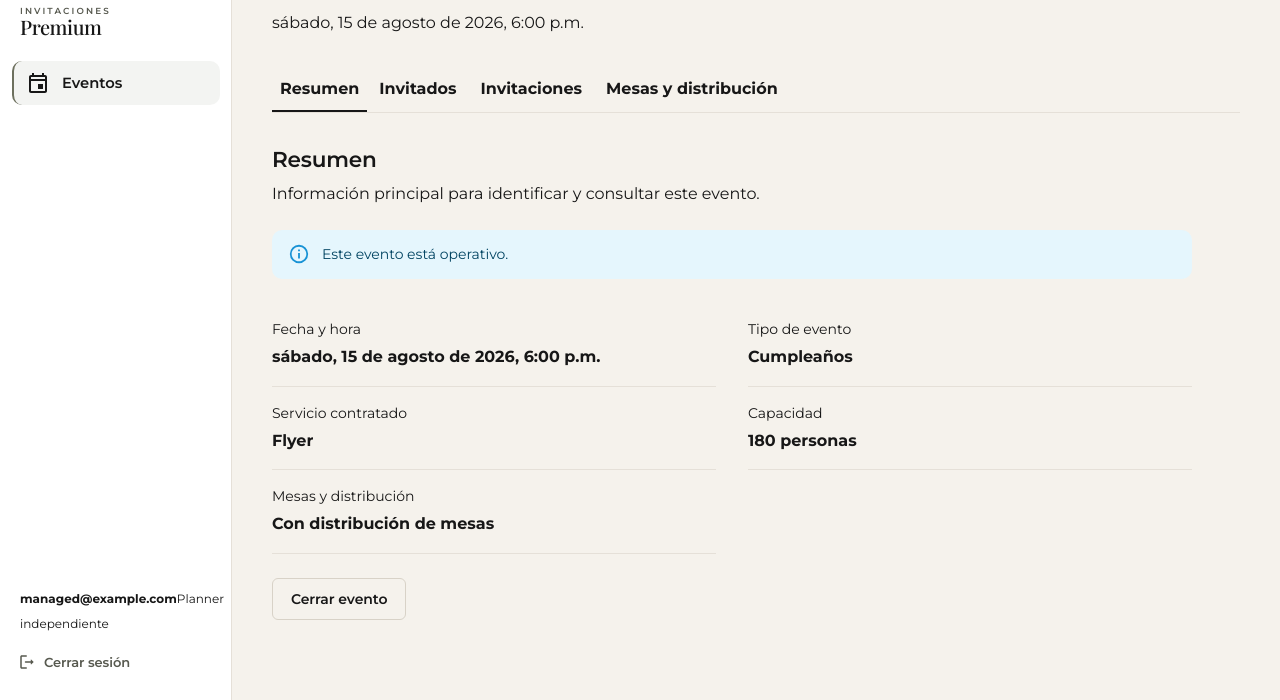
it: Active Event workspace routing › accepts CLOSED from reconciliation after an uncertain response without repeating close
This screenshot has width=1280, height=700.
(page scrolled)
Step 1. Click the button "Cerrar evento" → (339, 599), box [272,578,406,620]
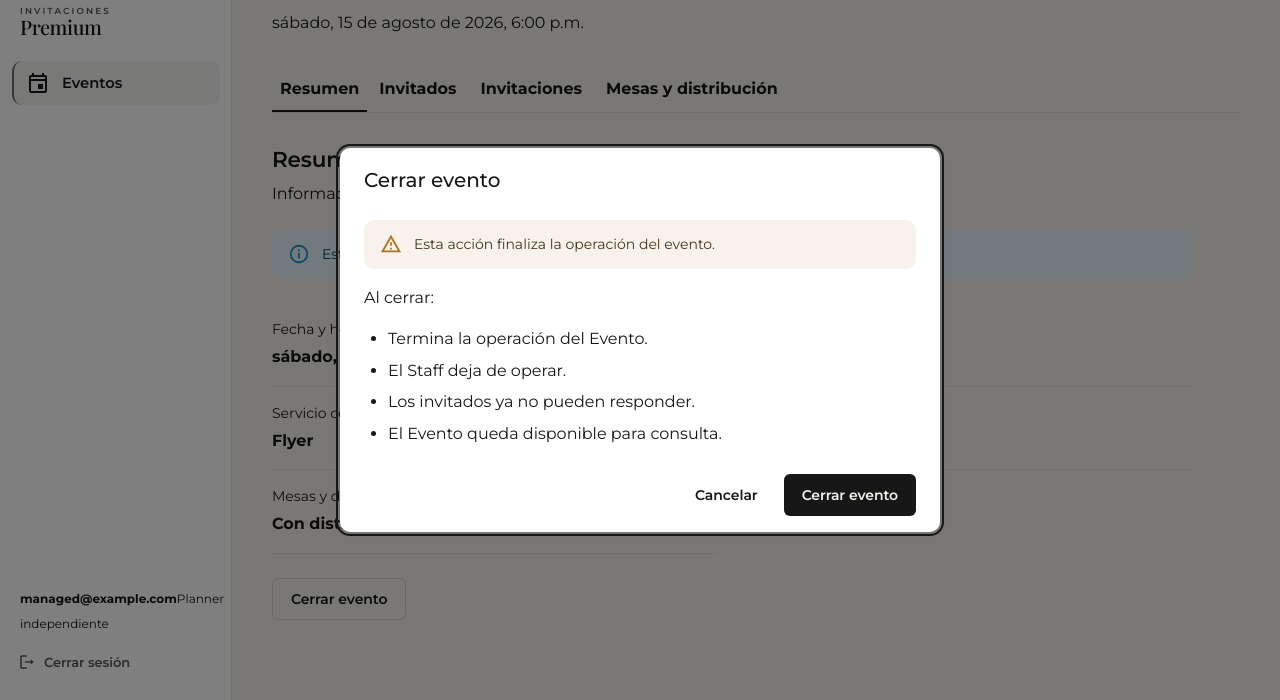
Step 2. Click the button "Cerrar evento" → (850, 496), box [784,474,916,516]
(page scrolled)
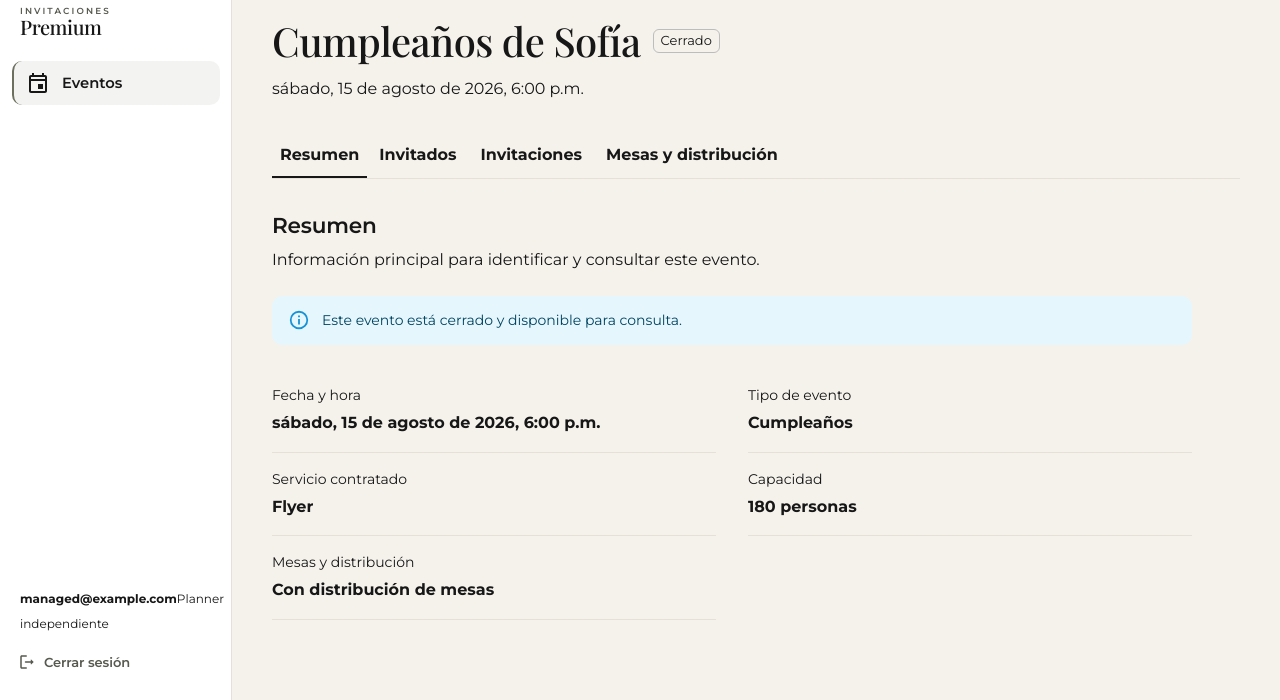
Now the text "Cerrado" is shown, box [661,32,712,48]
Now the button "Cerrar evento" is gone
